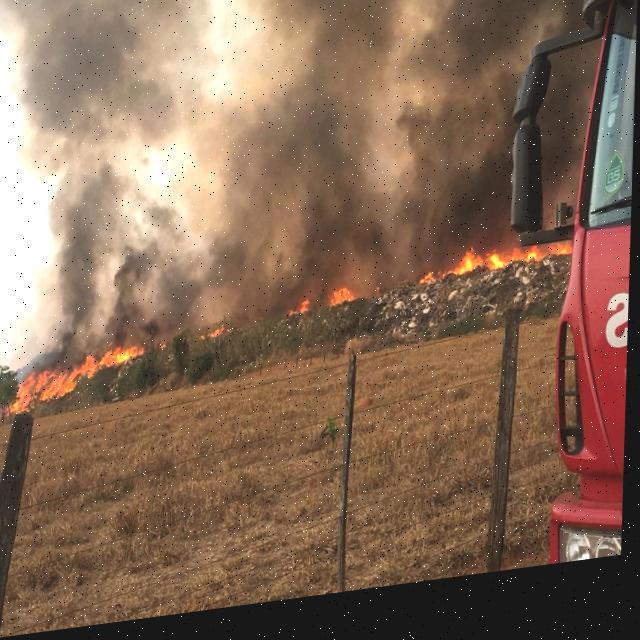Fire: (0, 0, 613, 349), (9, 346, 146, 416), (419, 238, 575, 294), (332, 294, 360, 315), (202, 330, 235, 346), (292, 305, 312, 325)
